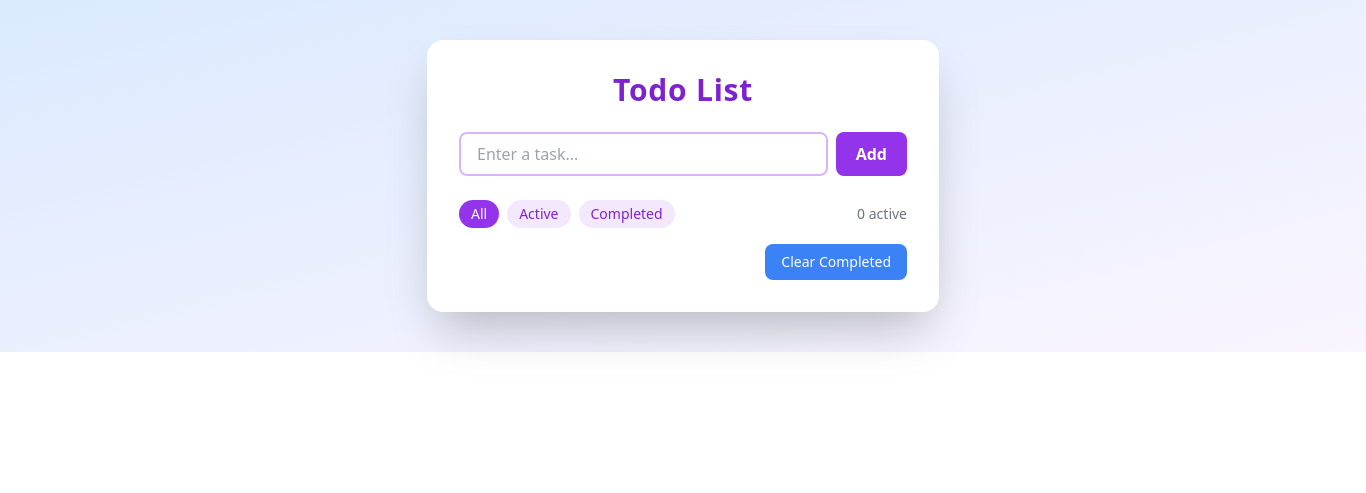
Test: TodoList Component › shows correct active count
Expected: the text "0 active" is shown, [857,204,907,224]
Type "Task 1" into the field with placeholder "Enter a task...".
click(643, 154); type("Task 1")  # box [459,132,828,176]
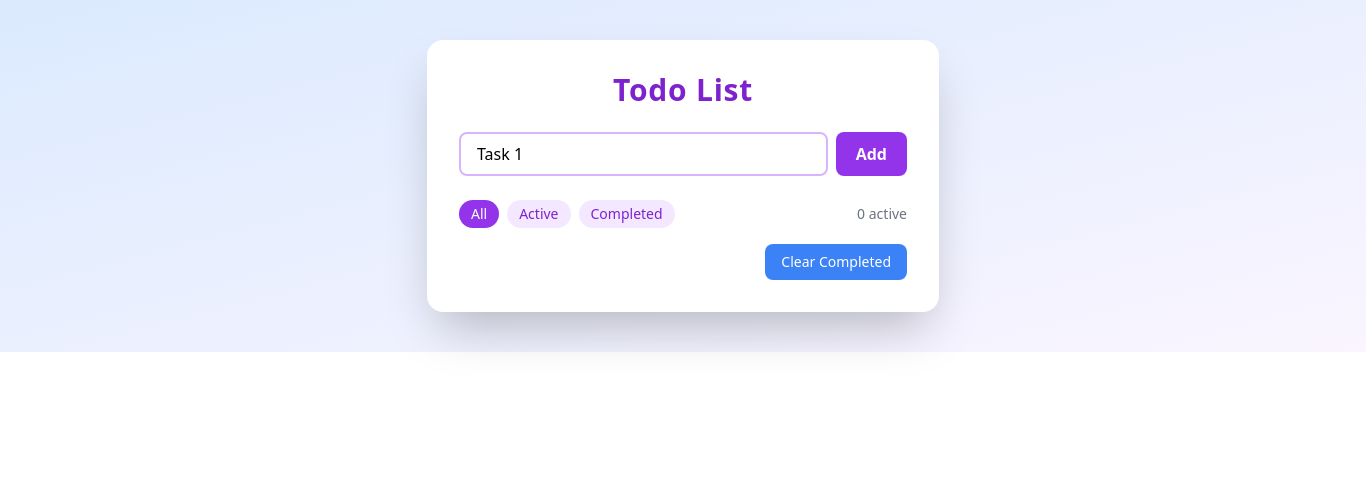
Click the button "Add".
click(871, 154)  # box [836,132,907,176]
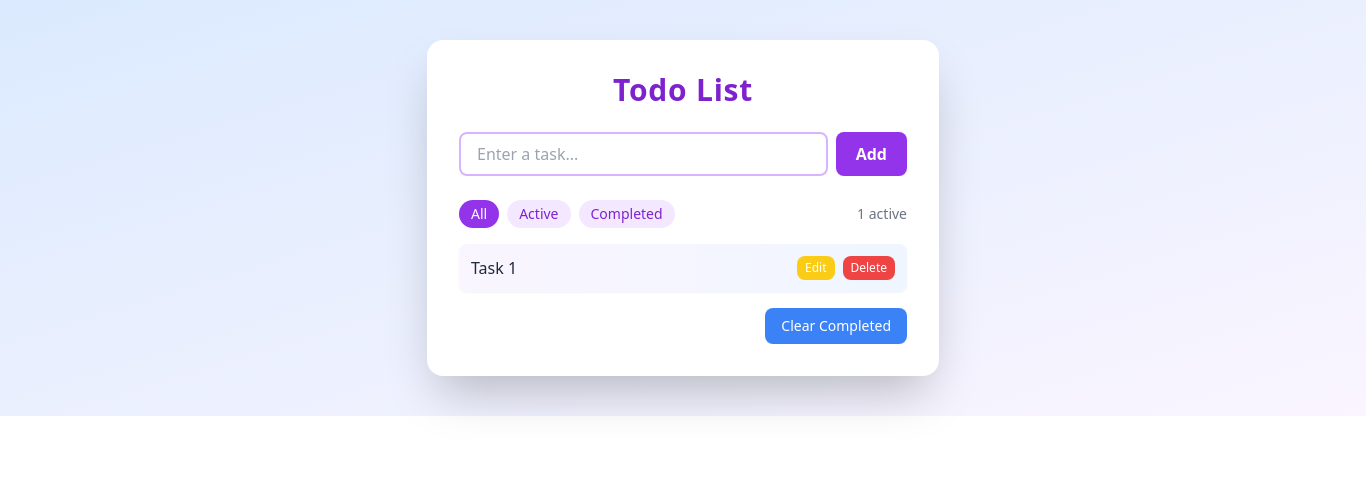
Now the text "1 active" is shown, box [857,204,907,224]
Type "Task 2" into the field with placeholder "Enter a task...".
click(643, 154); type("Task 2")  # box [459,132,828,176]
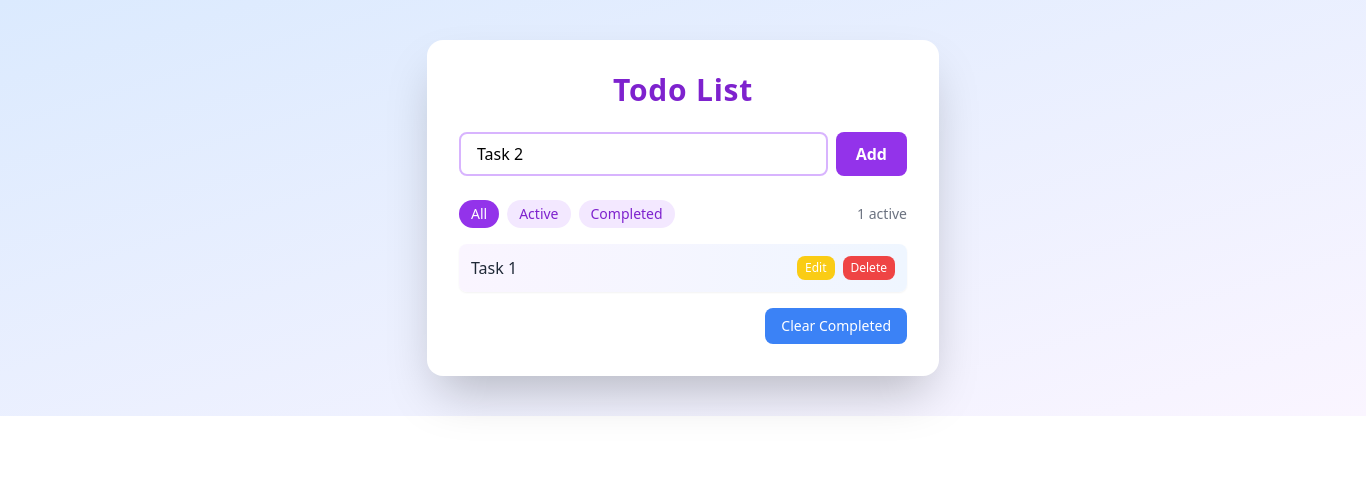
Click the button "Add".
click(871, 154)  # box [836,132,907,176]
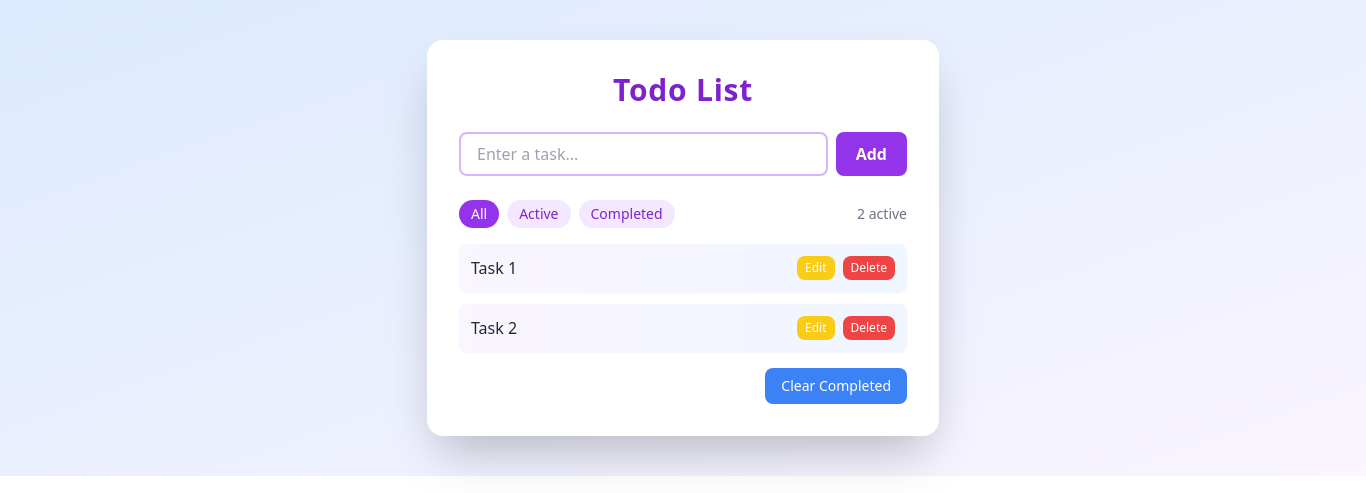
Now the text "2 active" is shown, box [857,204,907,224]
Click the text "Task 1".
click(494, 268)  # box [471,257,517,279]
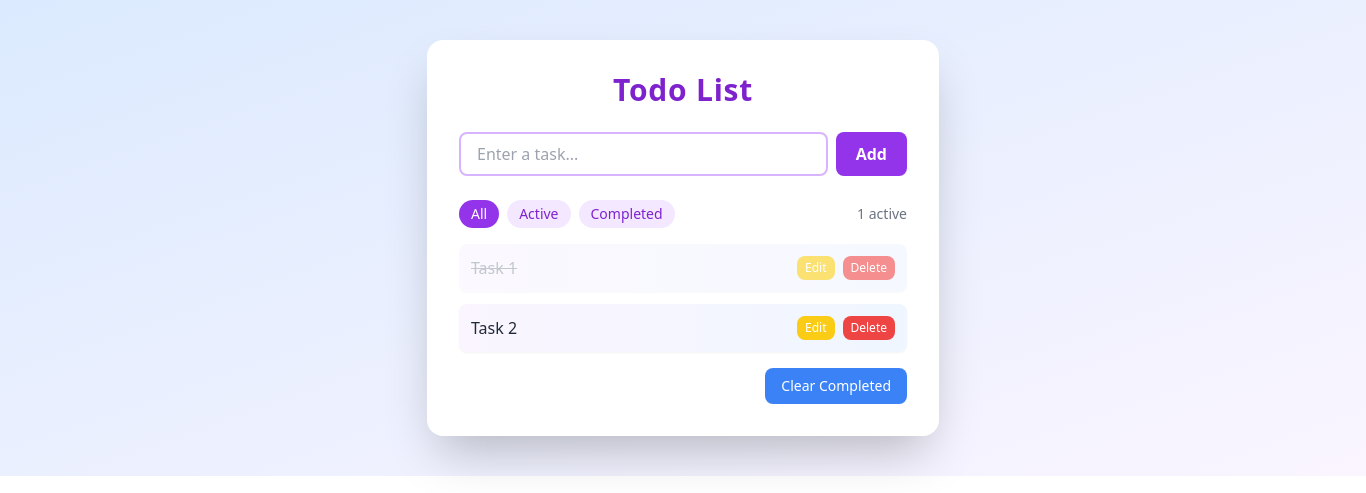
Now the text "1 active" is shown, box [857,204,907,224]
